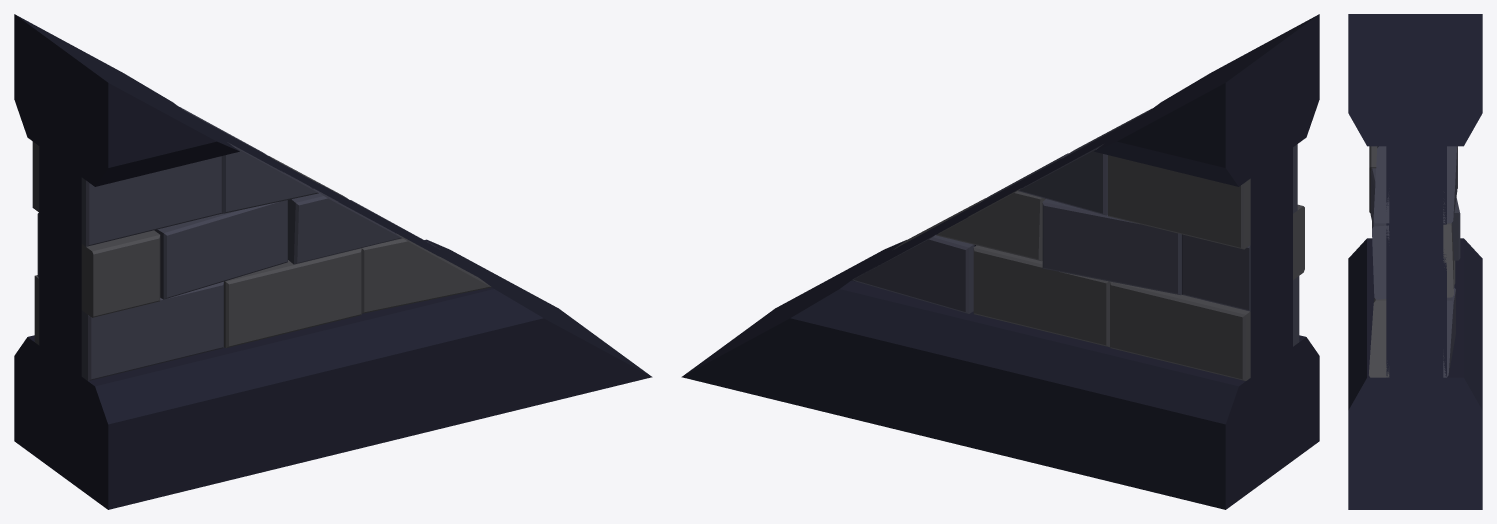
Rendered from Wall_IsocelesRA.fbx.
The picture shows the model from 3 angles, left to right: view 1: azimuth 30°, elevation 25°; view 2: azimuth 150°, elevation 25°; view 3: azimuth 270°, elevation 25°; orthographic projection. The views are drawn at different scales.
Parts seen in each view (by area): view 1: 1-Wall_IsocelesRA; view 2: 1-Wall_IsocelesRA; view 3: 1-Wall_IsocelesRA.
Boxes of the visible parts, left/top/right/bottom form: 1-Wall_IsocelesRA: left=14, top=14, right=652, bottom=509; 1-Wall_IsocelesRA: left=681, top=14, right=1319, bottom=509; 1-Wall_IsocelesRA: left=1348, top=14, right=1482, bottom=509.
Bounding box in the file's own units: 4 × 1.19 × 3.
